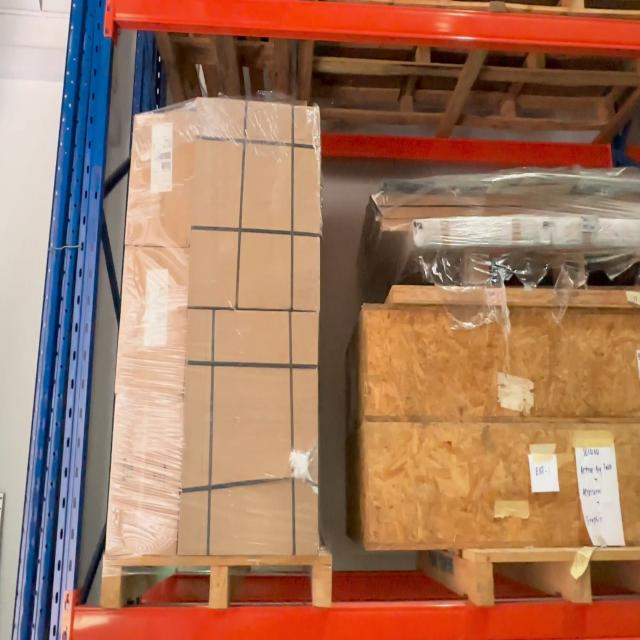box: (186, 311, 320, 557), (192, 105, 320, 305), (105, 390, 182, 554), (115, 245, 190, 392), (124, 110, 193, 250)
